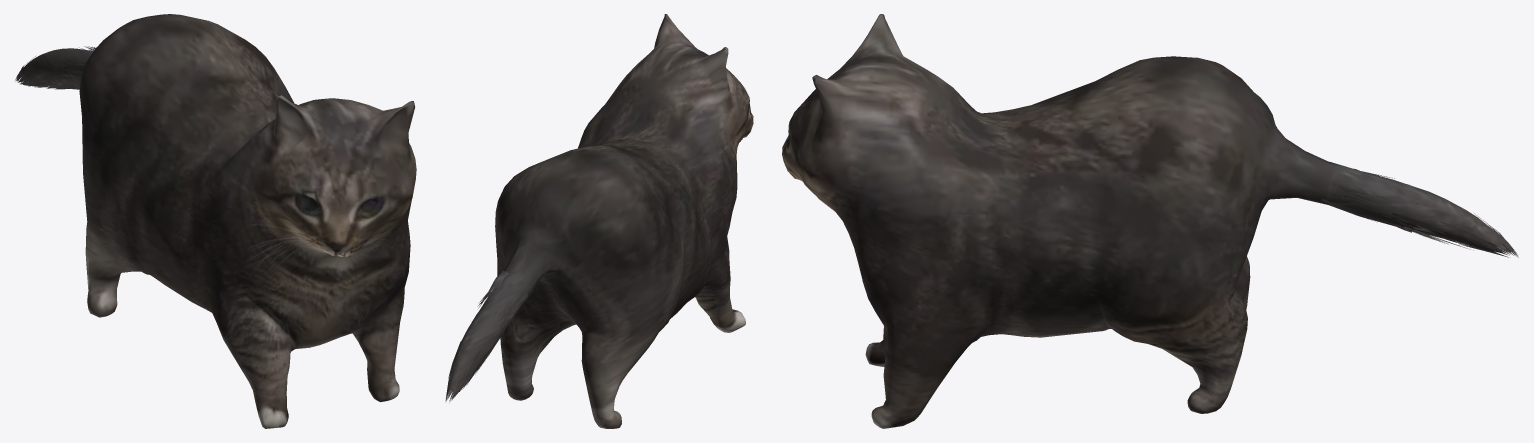
Rendered from oiiaioooooiai_cat_draco.glb.
3 renders of one model, left to right at view 1: azimuth 30°, elevation 25°; view 2: azimuth 150°, elevation 25°; view 3: azimuth 270°, elevation 25°, orthographic. The views are drawn at different scales.
Parts seen in each view (by area): view 1: Muchkin1.002; view 2: Muchkin1.002; view 3: Muchkin1.002.
Boxes of the visible parts, <box> form: Muchkin1.002: <box>15,14,416,428</box>; Muchkin1.002: <box>445,14,753,428</box>; Muchkin1.002: <box>782,14,1518,428</box>.
Size of the model in its own units: 0.2392 by 0.386 by 0.7238.
Materials: 1 (1 with a texture image).
